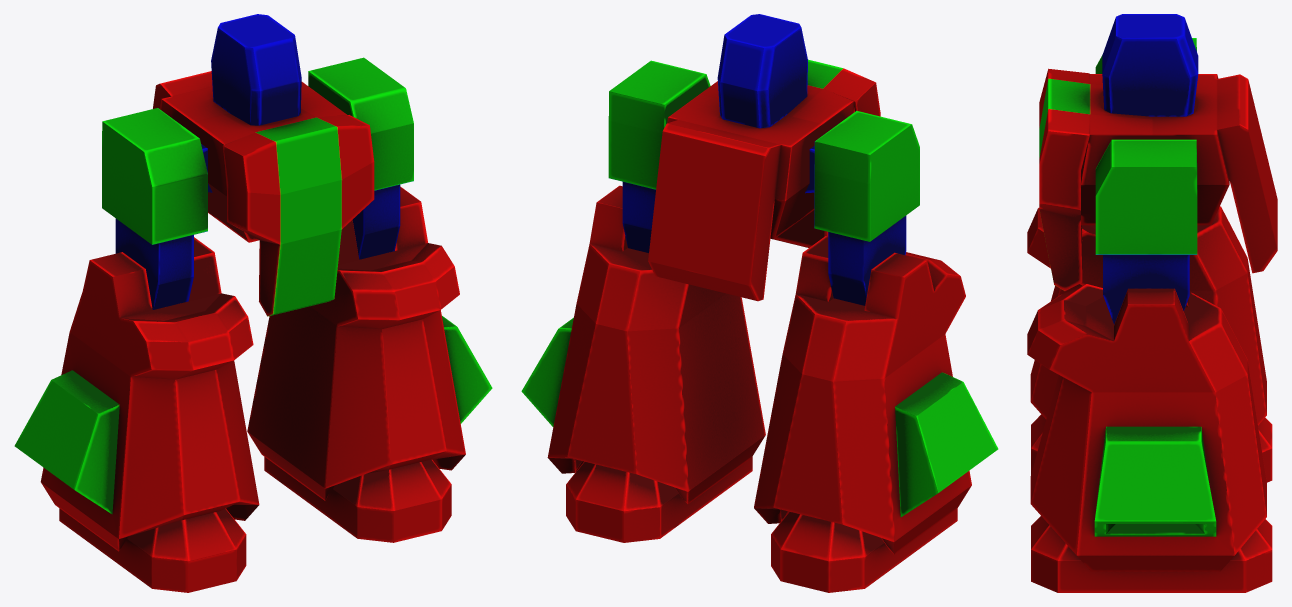
The model's file is heavylegs.glb.
3 renders of one model, left to right at view 1: azimuth 30°, elevation 25°; view 2: azimuth 150°, elevation 25°; view 3: azimuth 270°, elevation 25°, orthographic.
Visible parts, largest first — view 1: Cube.066; view 2: Cube.066; view 3: Cube.066.
Part boxes in pixels (x1,y1,x2,y2): Cube.066: [14, 14, 492, 592]; Cube.066: [521, 14, 998, 592]; Cube.066: [1027, 14, 1277, 592].
Bounding box in the file's own units: 4.76 × 5.31 × 2.45.
Materials: 1 (1 with a texture image).
